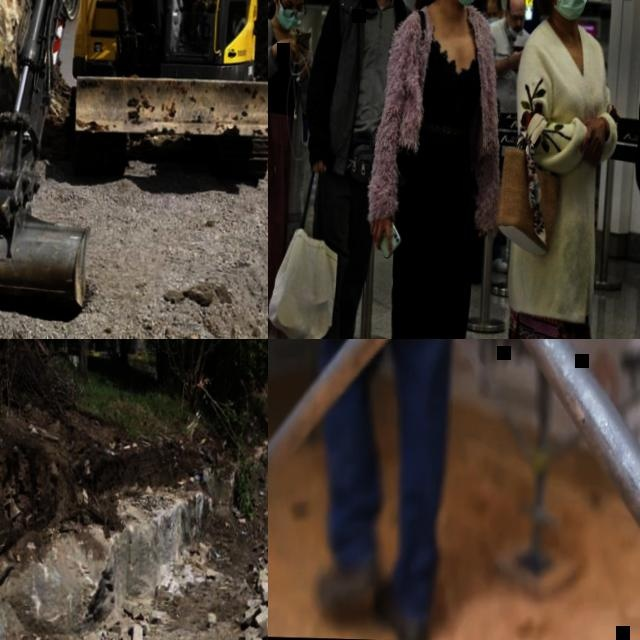Mask: (553, 0, 590, 21), (277, 7, 302, 33), (506, 26, 520, 38), (486, 15, 499, 23)
NO-Hardhat: (505, 0, 526, 10), (486, 0, 502, 7)
NO-Safety Vest: (521, 26, 604, 214), (403, 8, 485, 170), (338, 0, 406, 155), (490, 24, 529, 110), (268, 23, 299, 112)
Person: (293, 339, 494, 640), (357, 0, 495, 339), (499, 0, 625, 339), (294, 0, 415, 339), (268, 0, 316, 339), (490, 0, 530, 112), (183, 0, 237, 44), (483, 0, 503, 25)
machinery: (0, 0, 268, 325)
